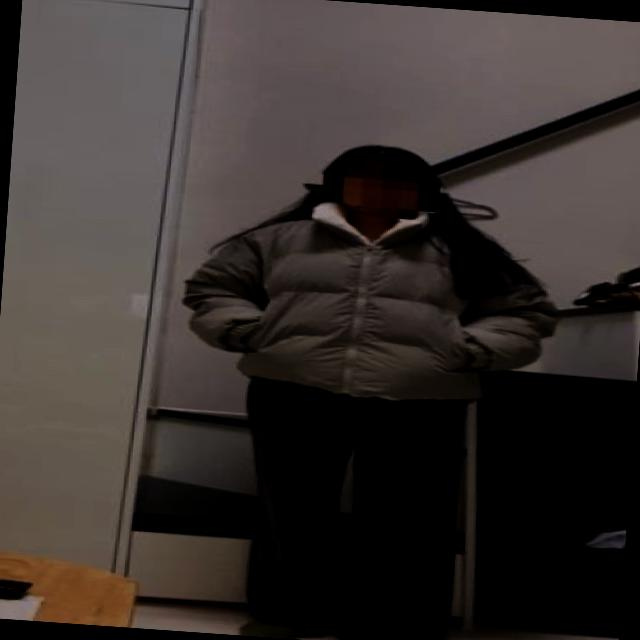padding: (179, 190, 567, 413), (232, 373, 475, 640)
